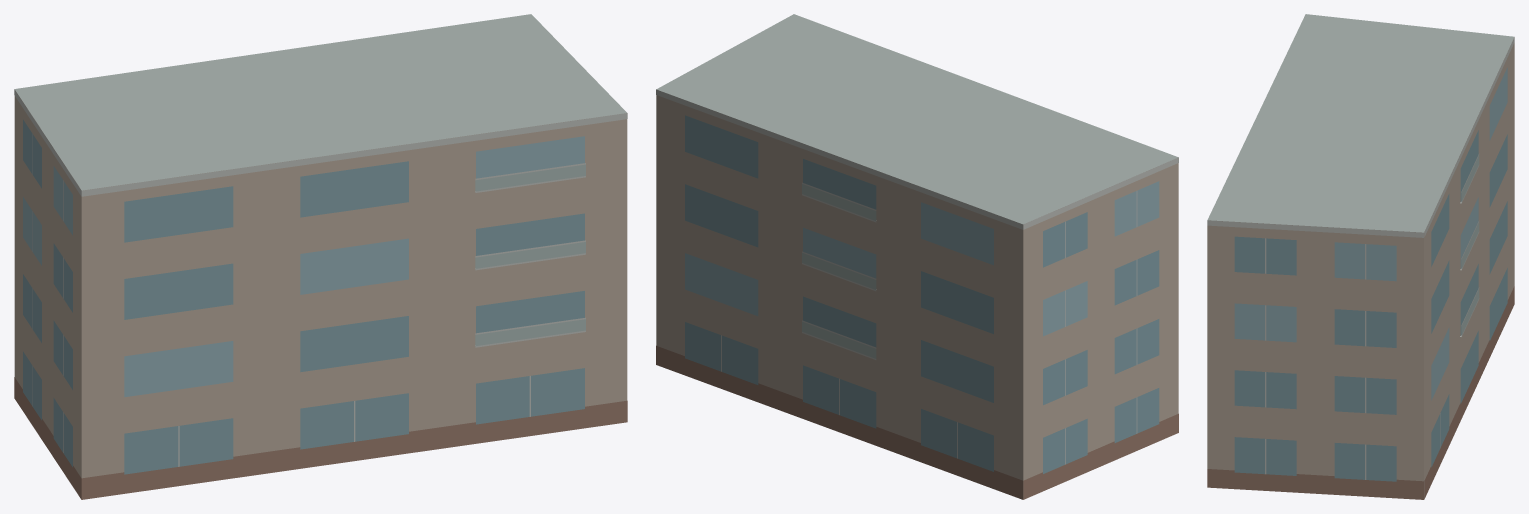
Rendered from survey-upis-32603422.glb.
3 renders of one model, left to right at view 1: azimuth 30°, elevation 25°; view 2: azimuth 150°, elevation 25°; view 3: azimuth 270°, elevation 25°, orthographic. The views are drawn at different scales.
Visible parts, largest first — view 1: survey-upis-32603422.tmp; view 2: survey-upis-32603422.tmp; view 3: survey-upis-32603422.tmp.
Part boxes in pixels (x1,y1,x2,y2): survey-upis-32603422.tmp: (14,14,627,499); survey-upis-32603422.tmp: (656,14,1178,499); survey-upis-32603422.tmp: (1207,14,1514,499).
Bounding box in the file's own units: 21.41 × 12.2 × 12.72.
